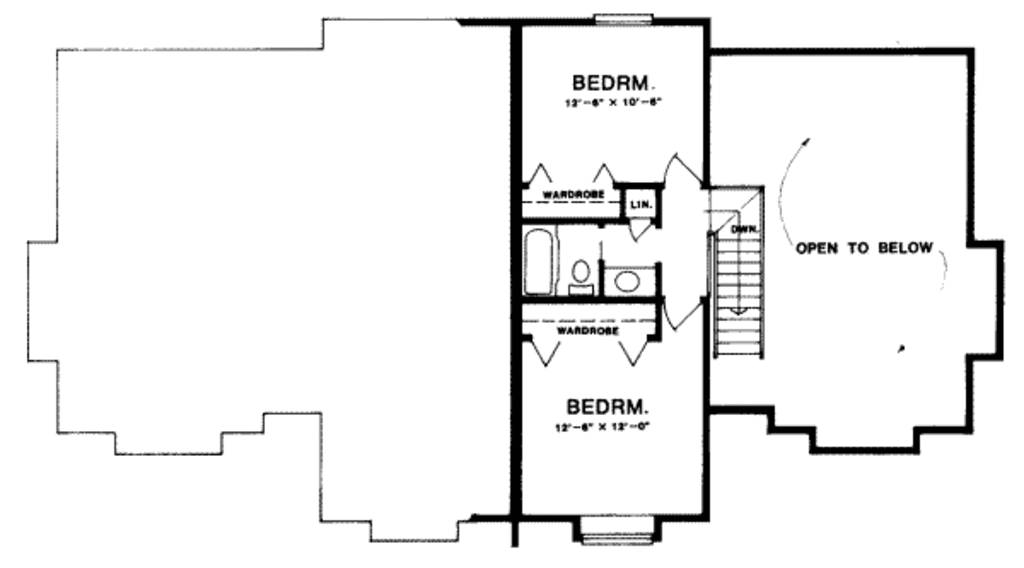door: (659, 150, 704, 192), (664, 296, 702, 336)
large_sink: (564, 247, 598, 296)
small_sink: (601, 260, 661, 296)
stairs: (711, 183, 770, 361)
tub: (522, 218, 560, 301)
window: (574, 509, 663, 548), (591, 8, 653, 28)
